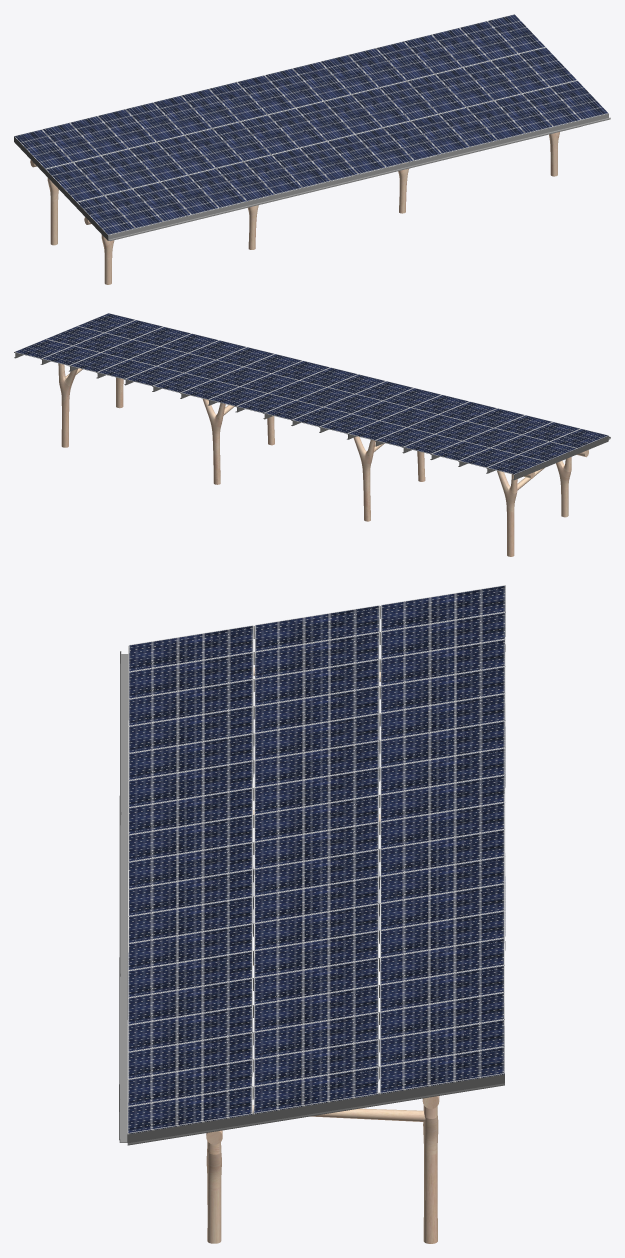
Rendered from carport.glb.
3 renders of one model, top to bottom at view 1: azimuth 30°, elevation 25°; view 2: azimuth 150°, elevation 25°; view 3: azimuth 270°, elevation 25°, orthographic. The views are drawn at different scales.
Visible parts, largest first — view 1: Object_66_/Gutter_0, Object_51_/Solar Panel_0, Object_89_/Gutter_0, Object_87_/Solar Panel_0, Object_40_/Solar Panel_0, Object_61_/Solar Panel_0, Object_55_/Solar Panel_0, Object_79_/Solar Panel_0, Object_29_/Solar Panel_0, Object_33_/Solar Panel_0, Object_45_/Solar Panel_0, Object_75_/Solar Panel_0 (+47 smaller); view 2: Object_26_/Wood_02_2_0, Object_20_/Wood_02_2_0, Object_27_/Wood_02_2_0, Object_67_/Wood_02_2_0, Object_63_/Solar Panel_0, Object_76_/Solar Panel_0, Object_57_/Solar Panel_0, Object_70_/Solar Panel_0, Object_30_/Solar Panel_0, Object_84_/Solar Panel_0, Object_46_/Solar Panel_0, Object_49_/Solar Panel_0 (+48 smaller); view 3: Object_88_/BrusheMetal_0, Object_76_/Solar Panel_0, Object_77_/Solar Panel_0, Object_78_/Solar Panel_0, Object_48_/Solar Panel_0, Object_74_/Solar Panel_0, Object_45_/Solar Panel_0, Object_70_/Solar Panel_0, Object_39_/Solar Panel_0, Object_40_/Solar Panel_0, Object_41_/Solar Panel_0, Object_50_/Solar Panel_0 (+48 smaller).
Boxes of the visible parts, x1,y1,x2,y2 form: Object_66_/Gutter_0: (108, 125, 582, 241); Object_51_/Solar Panel_0: (216, 162, 274, 201); Object_89_/Gutter_0: (442, 113, 610, 159); Object_87_/Solar Panel_0: (439, 108, 496, 147); Object_40_/Solar Panel_0: (356, 128, 413, 167); Object_61_/Solar Panel_0: (77, 196, 135, 235); Object_55_/Solar Panel_0: (133, 182, 190, 221); Object_79_/Solar Panel_0: (495, 94, 552, 133); Object_29_/Solar Panel_0: (240, 115, 298, 154); Object_33_/Solar Panel_0: (300, 142, 357, 181); Object_45_/Solar Panel_0: (181, 89, 239, 128); Object_75_/Solar Panel_0: (522, 87, 580, 126); Object_26_/Wood_02_2_0: (497, 470, 517, 556); Object_20_/Wood_02_2_0: (353, 436, 375, 521); Object_27_/Wood_02_2_0: (202, 398, 225, 484); Object_67_/Wood_02_2_0: (58, 363, 77, 447); Object_63_/Solar Panel_0: (487, 455, 545, 474); Object_76_/Solar Panel_0: (14, 339, 71, 358); Object_57_/Solar Panel_0: (431, 441, 488, 460); Object_70_/Solar Panel_0: (153, 373, 210, 392); Object_30_/Solar Panel_0: (292, 407, 349, 426); Object_84_/Solar Panel_0: (97, 360, 155, 379); Object_46_/Solar Panel_0: (376, 428, 433, 447); Object_49_/Solar Panel_0: (348, 421, 405, 440); Object_88_/BrusheMetal_0: (127, 1074, 504, 1145); Object_76_/Solar Panel_0: (380, 1047, 504, 1094); Object_77_/Solar Panel_0: (254, 1067, 378, 1114); Object_78_/Solar Panel_0: (128, 1087, 252, 1134); Object_48_/Solar Panel_0: (129, 734, 253, 780); Object_74_/Solar Panel_0: (254, 1040, 378, 1086); Object_45_/Solar Panel_0: (381, 748, 505, 794); Object_70_/Solar Panel_0: (380, 911, 505, 957); Object_39_/Solar Panel_0: (381, 884, 505, 930); Object_40_/Solar Panel_0: (129, 897, 253, 943); Object_41_/Solar Panel_0: (255, 877, 379, 922); Object_50_/Solar Panel_0: (254, 741, 379, 787).
Size of the model in its own units: 3.51 by 0.6694 by 1.18.
6 materials, 3 textured.
